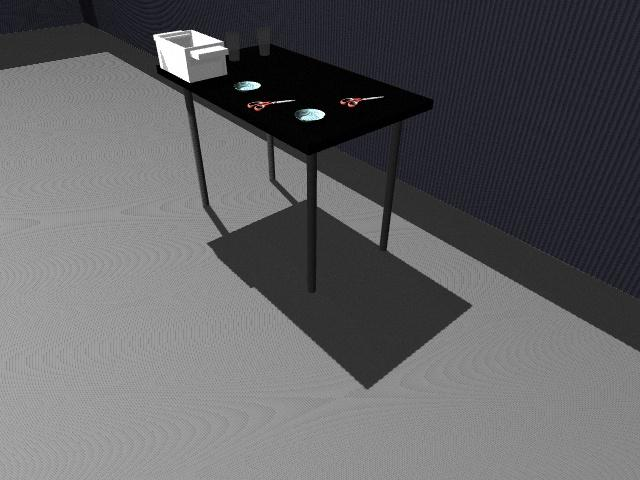cup: (225, 30, 240, 61), (257, 27, 271, 56)
plate: (294, 108, 326, 122), (233, 80, 262, 91)
scissors: (247, 98, 294, 111), (342, 96, 384, 108)
